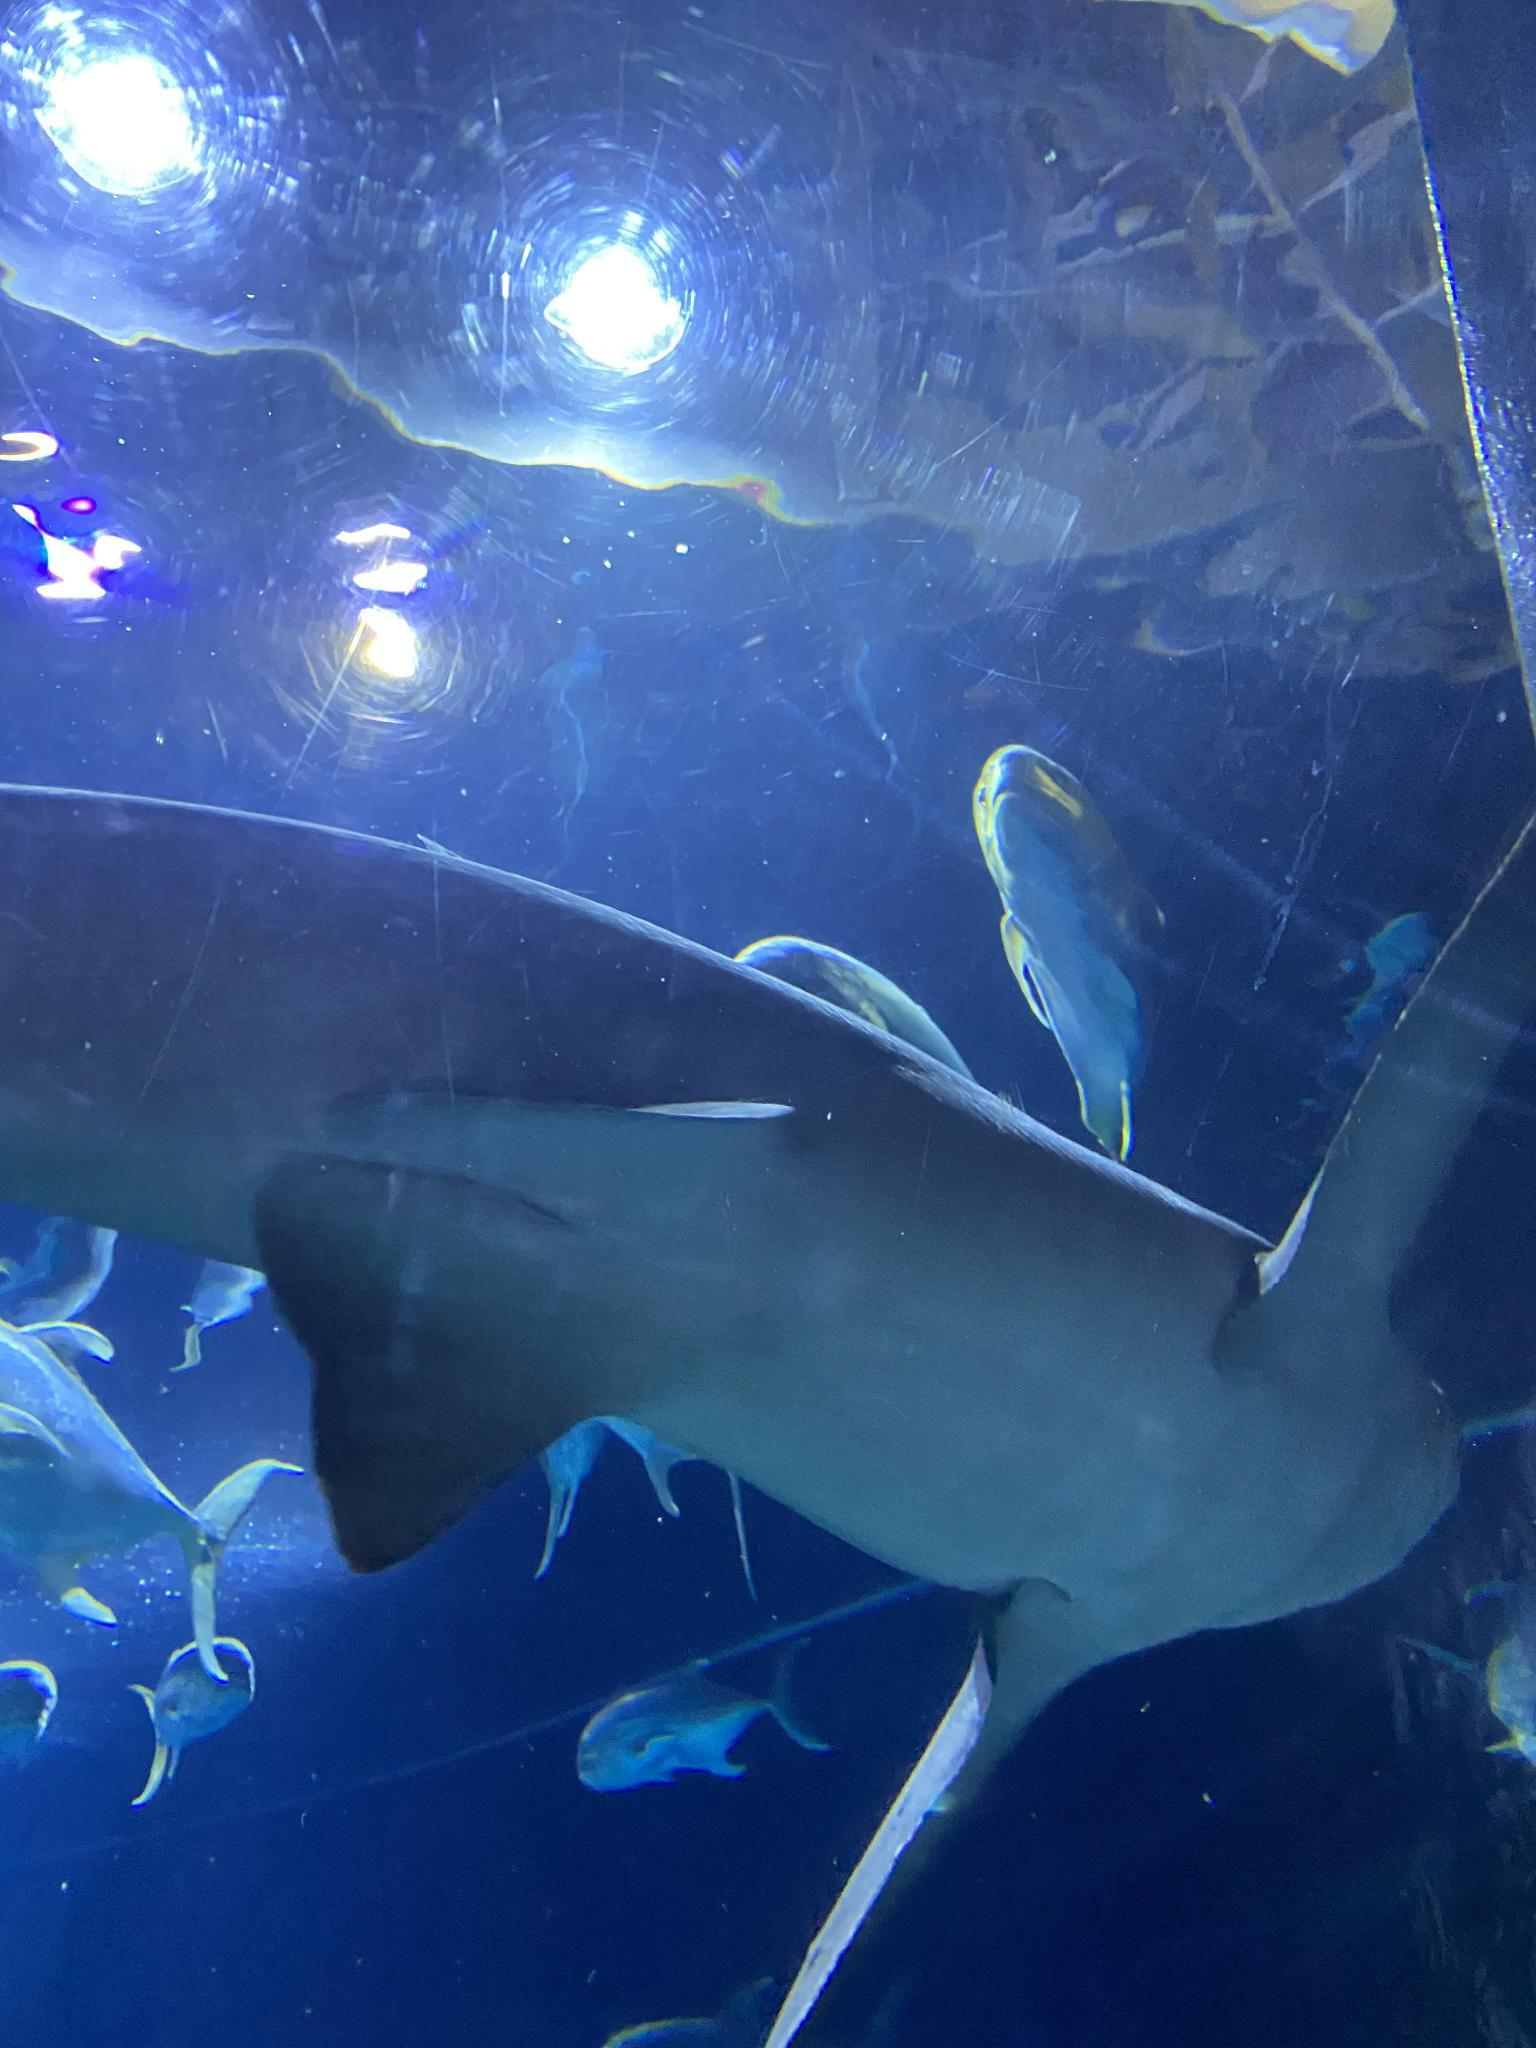fish: (0, 1319, 307, 1688), (971, 740, 1167, 1159), (574, 1630, 833, 1787), (127, 1635, 257, 1808), (0, 1659, 60, 1777)
shark: (0, 780, 1534, 2046)
